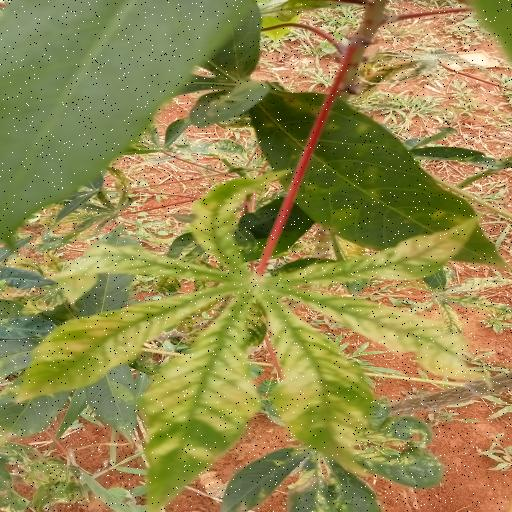Cassava_Mosaic: (0, 171, 512, 512)
